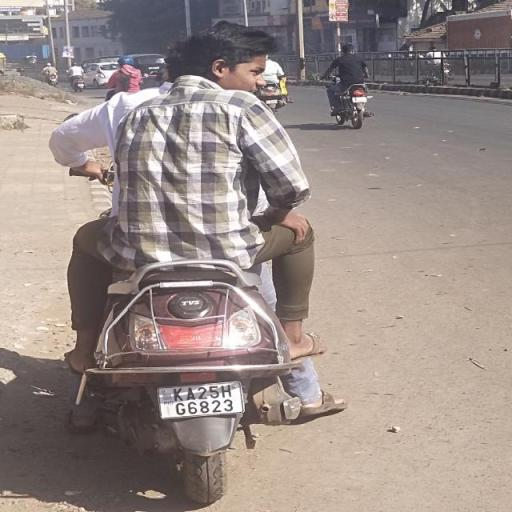bike: (24, 15, 330, 512)
numberplate: (147, 374, 252, 424)
withouthelmet: (176, 24, 274, 94)
